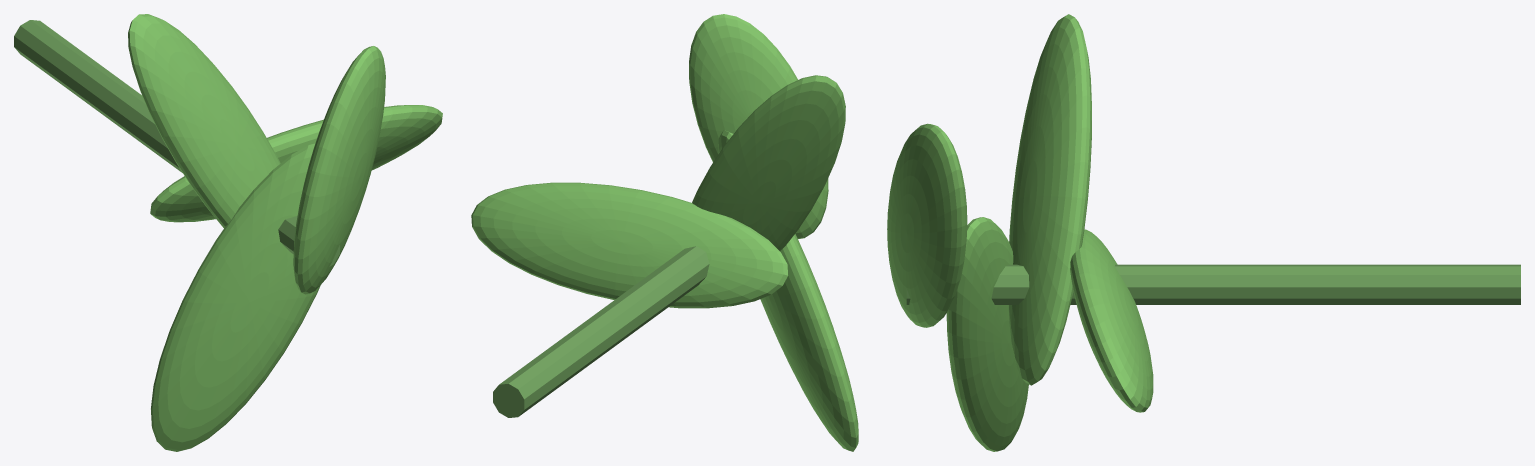
The model's file is weed_broadleaf.glb.
3 views of the same model, side by side, from view 1: azimuth 30°, elevation 25°; view 2: azimuth 150°, elevation 25°; view 3: azimuth 270°, elevation 25° (orthographic). The views are drawn at different scales.
Parts seen in each view (by area): view 1: weed_leaf_2, weed_leaf_1, weed_leaf_3, Cylinder, weed_leaf_0; view 2: weed_leaf_0, weed_leaf_1, weed_leaf_3, Cylinder, weed_leaf_2; view 3: weed_leaf_1, Cylinder, weed_leaf_3, weed_leaf_2, weed_leaf_0.
Part boxes in pixels (bbox=[...]): weed_leaf_2: bbox=[151, 143, 320, 451]; weed_leaf_1: bbox=[128, 14, 280, 227]; weed_leaf_3: bbox=[293, 46, 385, 294]; Cylinder: bbox=[14, 20, 339, 266]; weed_leaf_0: bbox=[150, 105, 442, 222]; weed_leaf_0: bbox=[471, 182, 787, 308]; weed_leaf_1: bbox=[692, 75, 845, 250]; weed_leaf_3: bbox=[689, 14, 828, 238]; Cylinder: bbox=[493, 246, 709, 417]; weed_leaf_2: bbox=[718, 130, 858, 451]; weed_leaf_1: bbox=[1008, 14, 1091, 385]; Cylinder: bbox=[906, 264, 1520, 304]; weed_leaf_3: bbox=[887, 123, 967, 327]; weed_leaf_2: bbox=[946, 217, 1028, 451]; weed_leaf_0: bbox=[1070, 229, 1153, 412].
Bounding box in the file's own units: 0.1231 × 0.1395 × 0.1858.
